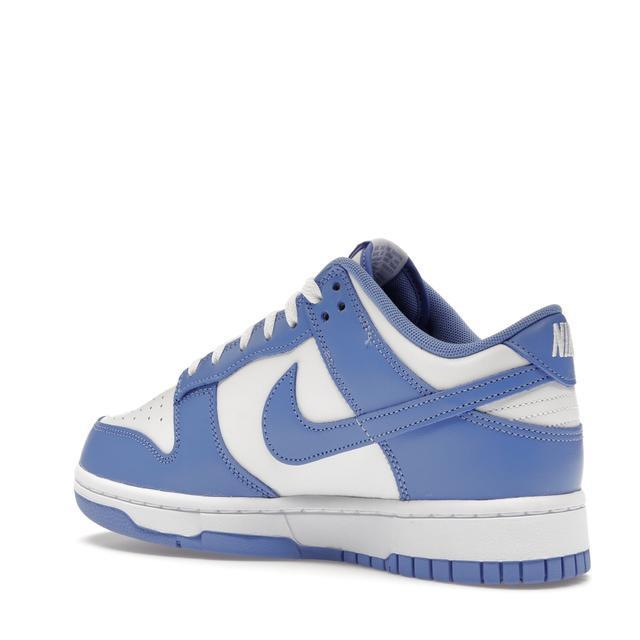J1_InsoleChar: (71, 236, 593, 589)
J1_StitchPattern: (175, 271, 579, 470), (72, 474, 593, 586), (94, 275, 323, 451), (259, 361, 581, 466), (181, 237, 408, 380), (72, 480, 589, 525), (182, 276, 323, 378), (340, 547, 592, 586), (92, 383, 178, 459), (105, 384, 176, 429), (548, 318, 574, 360)
